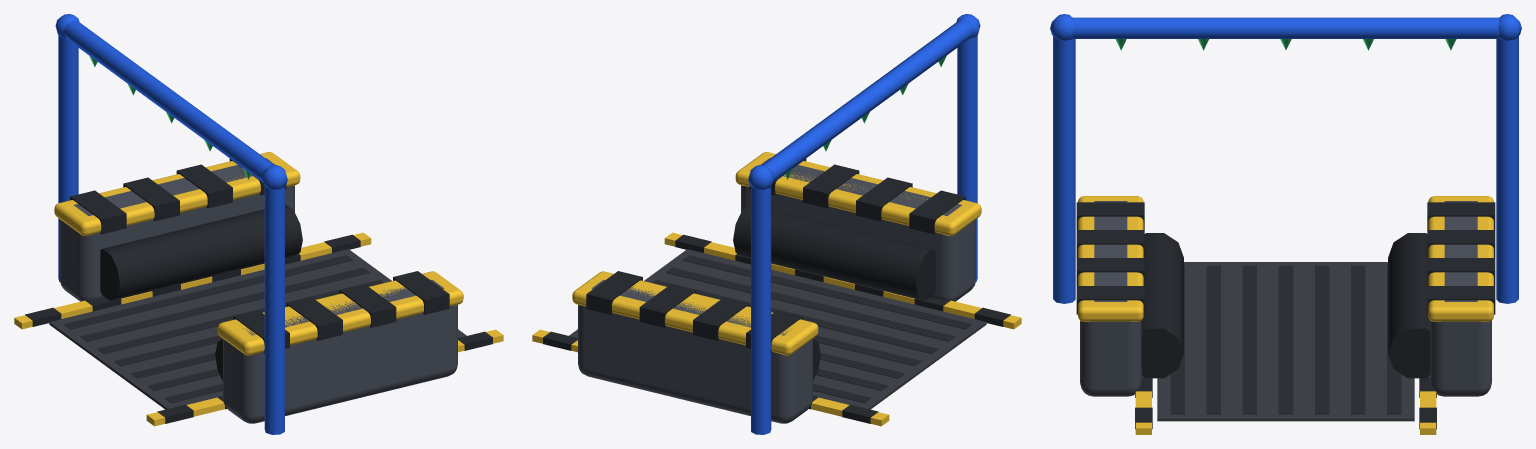
The model's file is machine_tire.glb.
3 renders of one model, left to right at view 1: azimuth 30°, elevation 25°; view 2: azimuth 150°, elevation 25°; view 3: azimuth 270°, elevation 25°, orthographic. The views are drawn at different scales.
Parts seen in each view (by area): view 1: Machine_tire, Floor, TireBrush0; view 2: Machine_tire, Floor, TireBrush1; view 3: Machine_tire, Floor, TireBrush0, TireBrush1.
Part boxes in pixels (x1,y1,x2,y2): Machine_tire: (54,14,463,434); Floor: (14,232,503,426); TireBrush0: (100,204,302,300); Machine_tire: (572,14,981,434); Floor: (532,232,1021,426); TireBrush1: (733,204,935,300); Machine_tire: (1050,14,1521,396); Floor: (1135,262,1436,434); TireBrush0: (1388,233,1430,378); TireBrush1: (1141,233,1183,378).
Bounding box in the file's own units: 4.2 × 3.04 × 4.58.
